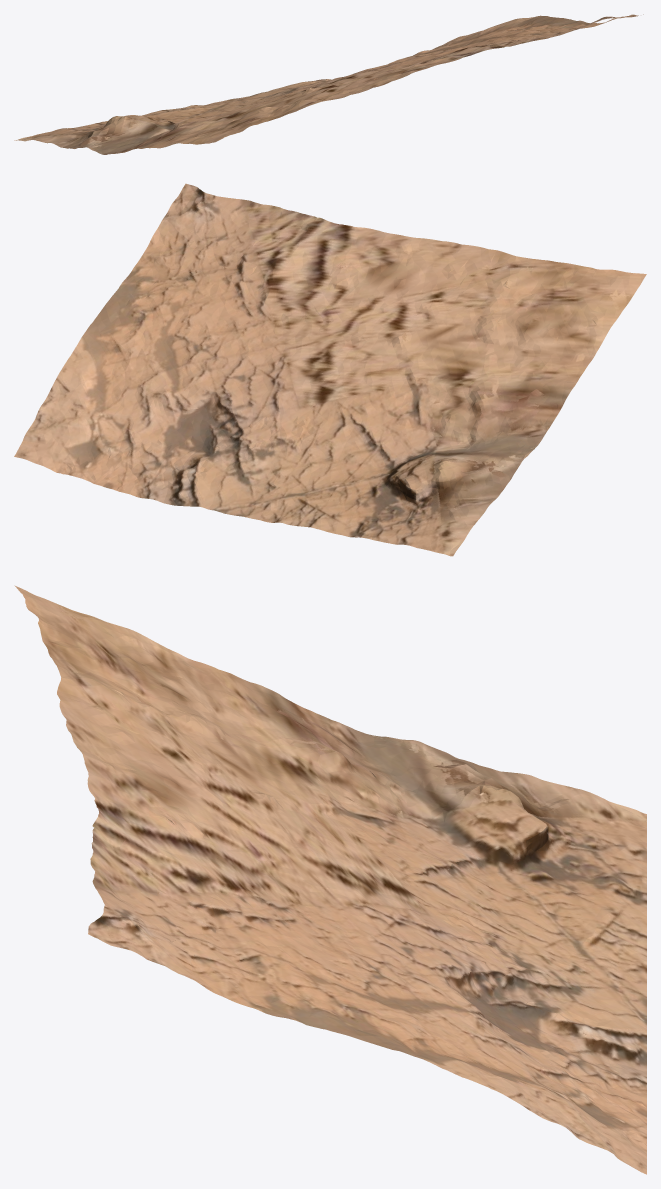
3 renders of one model, top to bottom at view 1: azimuth 30°, elevation 25°; view 2: azimuth 150°, elevation 25°; view 3: azimuth 270°, elevation 25°, orthographic. The views are drawn at different scales.
Bounding box in the file's own units: 1.04 × 0.3596 × 0.8009.
2 materials, 2 textured.
